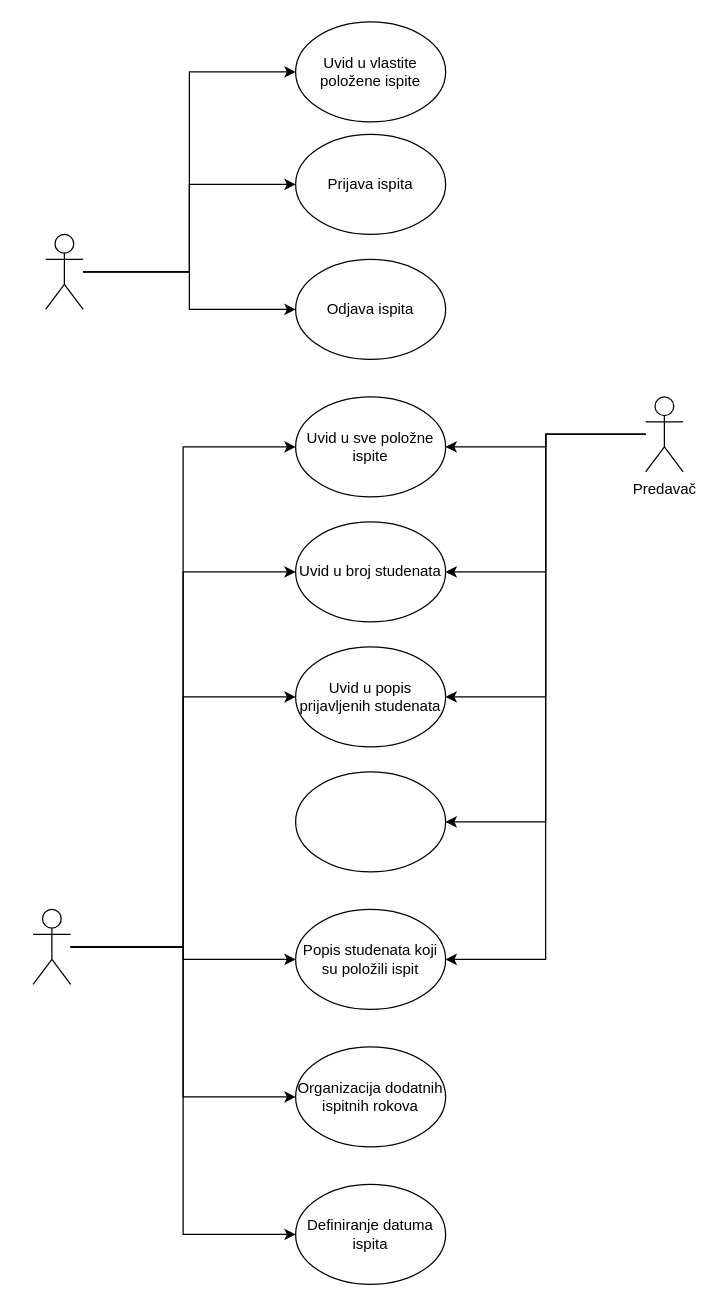
Some shapes in this 718 by 1306 pixel diagram are drawn without their labels. Here are the shapes that lost their labels. From the top down, the centre of each, then its label:
At (63,271): "Student".
At (370,821): "Unos ocjene i datum polaganja".
At (51,946): "Referada".
